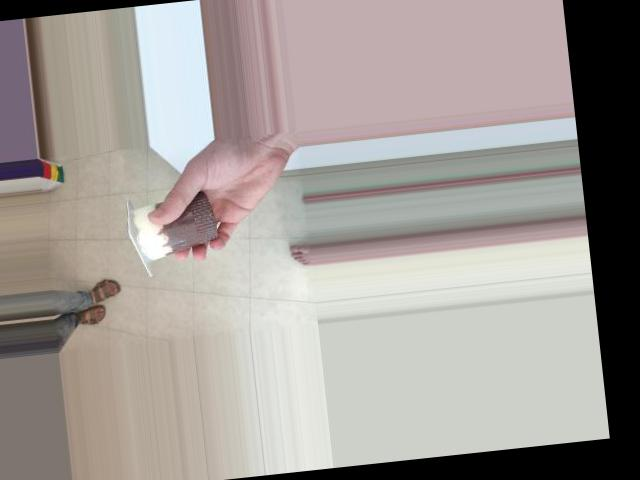milky: (115, 187, 236, 269)
